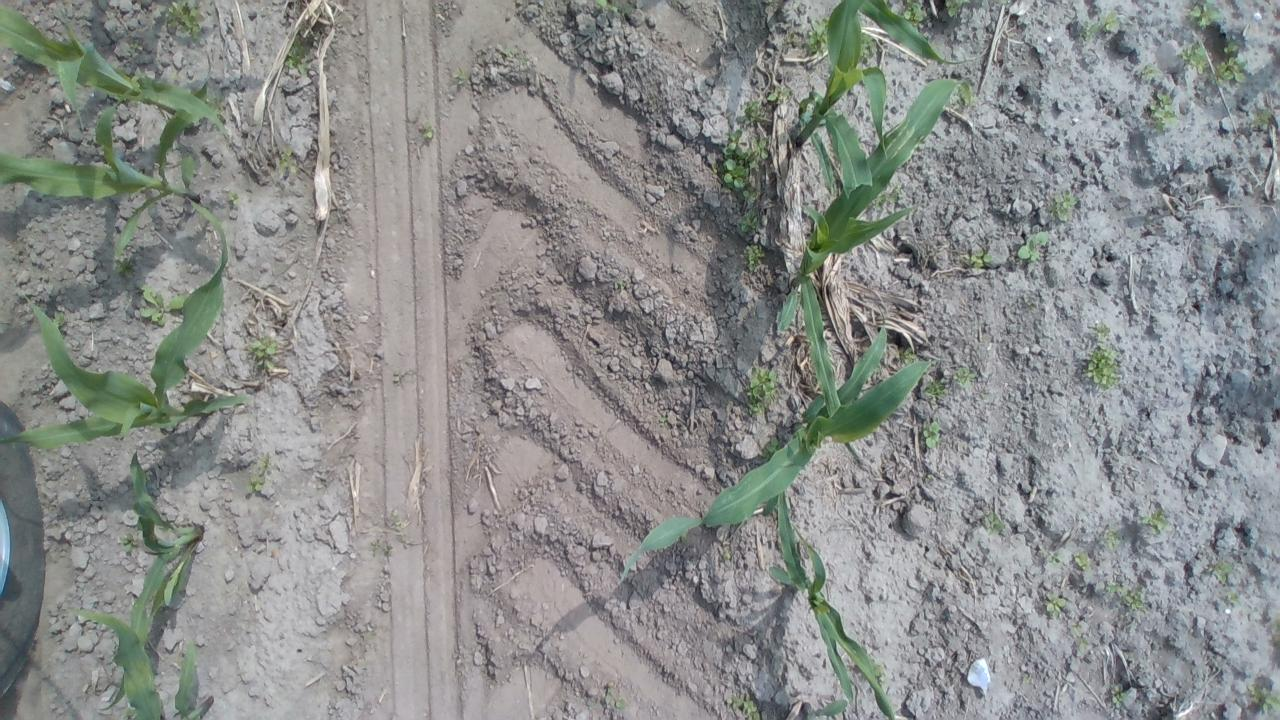Maize: (621, 305, 949, 582), (776, 76, 973, 419), (0, 197, 249, 445), (0, 49, 216, 257), (794, 0, 970, 202), (0, 0, 232, 138), (770, 490, 895, 720), (99, 446, 207, 708), (66, 606, 213, 720), (802, 698, 847, 720)
Weeds: (712, 127, 770, 203), (744, 363, 780, 420), (134, 282, 182, 324), (1076, 8, 1122, 43), (1083, 346, 1118, 390), (162, 2, 203, 36), (1106, 578, 1146, 612), (1149, 90, 1180, 132), (587, 680, 627, 710), (1047, 186, 1077, 224), (1178, 39, 1208, 77), (248, 334, 280, 369), (1246, 682, 1280, 714), (1019, 230, 1050, 263), (1214, 58, 1250, 86), (286, 33, 310, 75), (736, 97, 768, 127), (1190, 0, 1220, 31), (806, 16, 828, 57), (726, 696, 760, 720), (741, 244, 768, 272), (1141, 506, 1167, 534), (1069, 621, 1090, 654), (1101, 522, 1123, 552), (274, 144, 295, 175), (982, 509, 1006, 536), (596, 0, 634, 17), (924, 420, 944, 452), (1045, 590, 1066, 620), (952, 364, 976, 388), (1089, 318, 1111, 344), (964, 248, 990, 270), (1212, 559, 1233, 586), (118, 532, 142, 554), (900, 0, 924, 22), (878, 185, 899, 209), (243, 476, 270, 494), (737, 210, 759, 232), (1250, 106, 1272, 128), (923, 378, 947, 398), (369, 537, 392, 557), (1071, 546, 1090, 570), (114, 255, 134, 277), (860, 34, 876, 61), (257, 452, 272, 480), (766, 87, 794, 102), (206, 93, 226, 114), (945, 0, 969, 17), (450, 64, 470, 84), (1111, 680, 1125, 708), (418, 120, 435, 142), (1042, 546, 1062, 564), (387, 506, 401, 530), (1142, 62, 1163, 78), (1269, 612, 1280, 642), (900, 346, 918, 364), (496, 42, 515, 58), (1018, 294, 1035, 310), (54, 310, 67, 329), (227, 192, 242, 208), (612, 280, 631, 292), (396, 534, 411, 549), (872, 659, 884, 677), (127, 41, 143, 54), (1228, 592, 1242, 606), (1223, 42, 1239, 54), (768, 435, 778, 452), (392, 369, 404, 383), (785, 31, 795, 46), (1021, 676, 1030, 686), (658, 415, 668, 423), (722, 553, 732, 561), (761, 450, 770, 458), (996, 0, 1011, 4), (926, 474, 932, 480)
